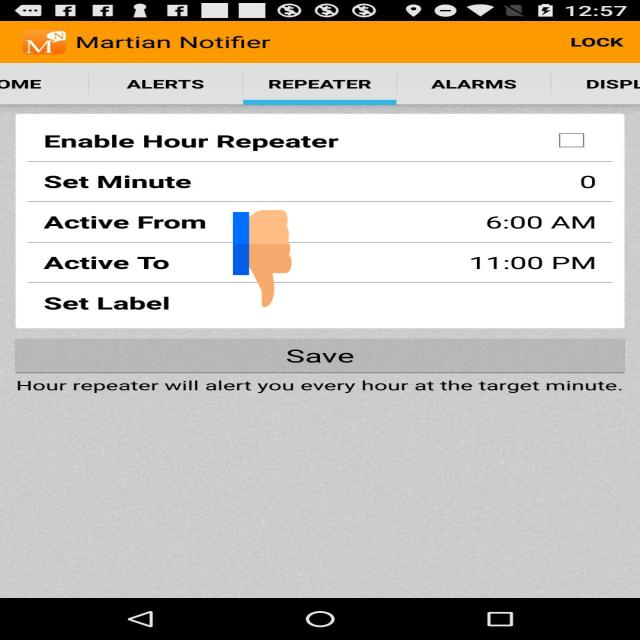obstruction: (233, 208, 291, 310)
